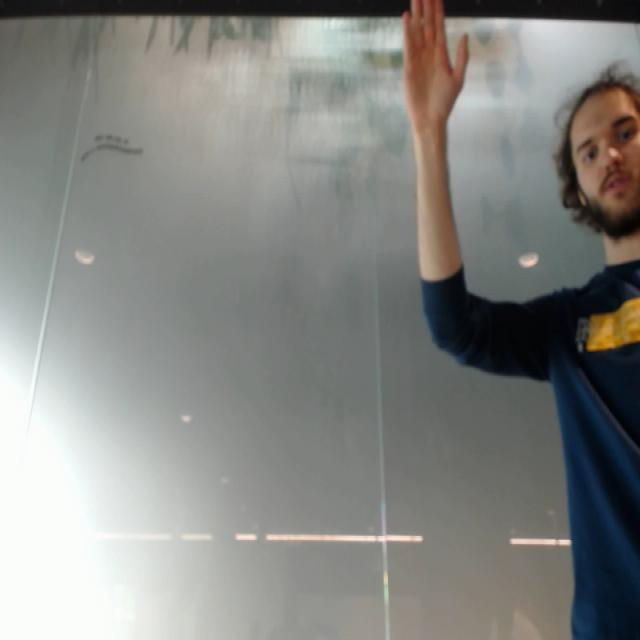backward: (396, 0, 475, 138)
